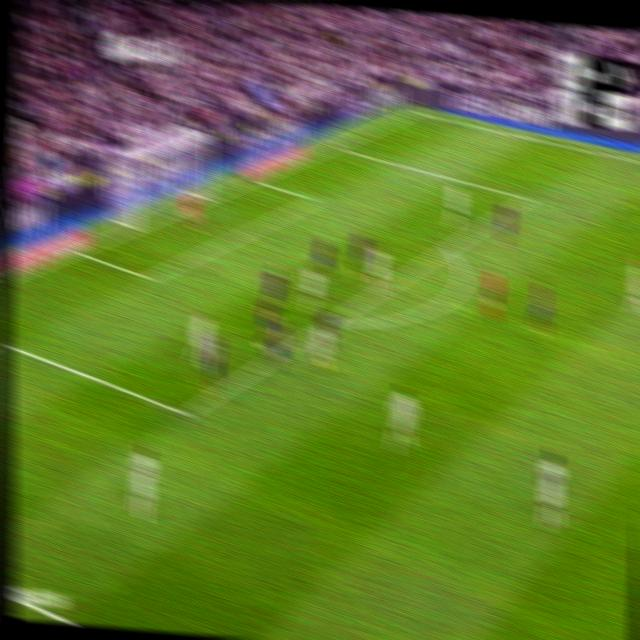bigarea_bottom_inner: (175, 399, 195, 426)
bigarea_top_inner: (520, 190, 533, 206)
bigarea_top_outter: (327, 138, 340, 152)
corner: (409, 106, 422, 116)
smallarea_top_inner: (308, 192, 320, 206)
top_arc_area_intersection: (440, 237, 455, 258)
